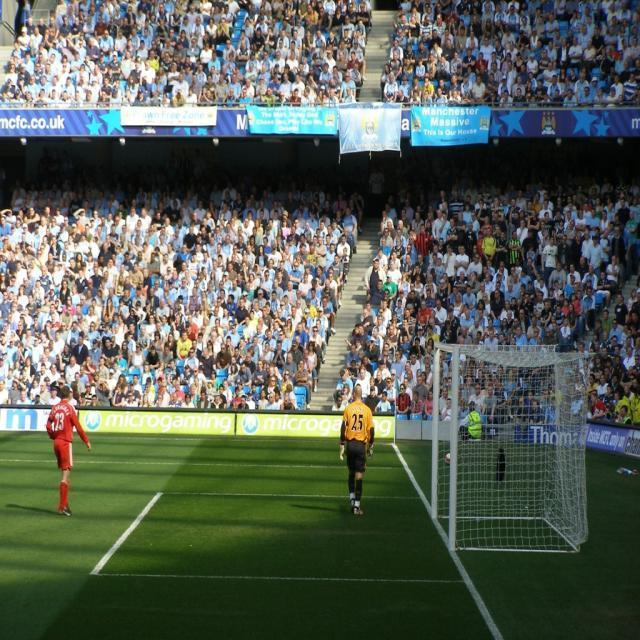ball: (445, 452, 452, 465)
